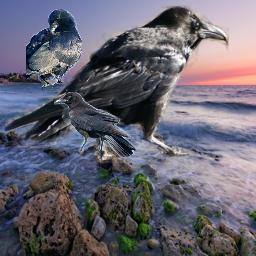Crow: (1, 4, 229, 170), (54, 92, 136, 157), (26, 9, 82, 91)
